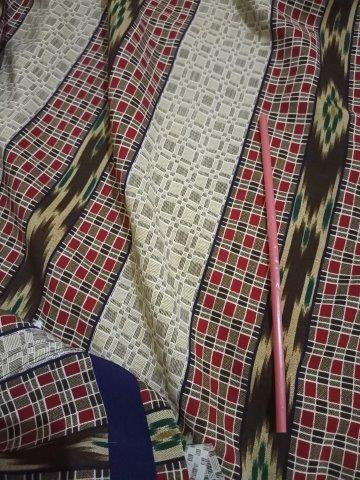sedotan: (259, 117, 286, 432)
